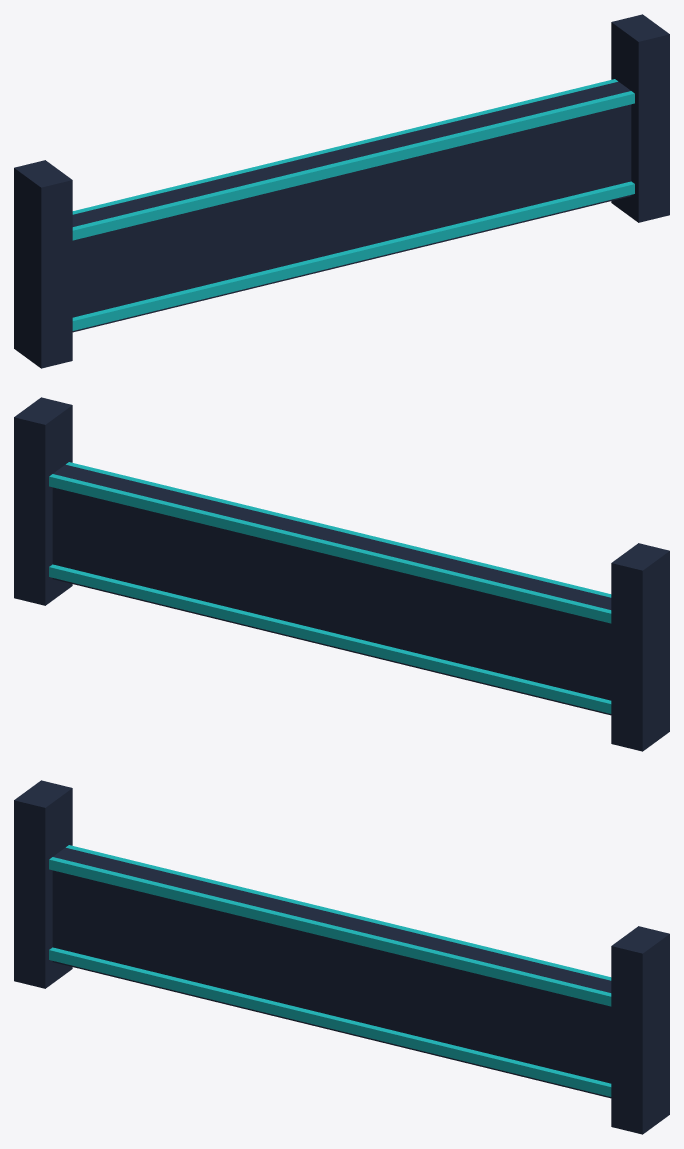
File: Neon_LightBarrier_Simple.glb
3 views of the same model, one above another, from view 1: azimuth 30°, elevation 25°; view 2: azimuth 150°, elevation 25°; view 3: azimuth 330°, elevation 25° (orthographic).
Visible parts, largest first — view 1: Neon_LightBarrier_Simple; view 2: Neon_LightBarrier_Simple; view 3: Neon_LightBarrier_Simple.
Part boxes in pixels (left/top/right/bottom): Neon_LightBarrier_Simple: left=14, top=14, right=669, bottom=368; Neon_LightBarrier_Simple: left=14, top=397, right=669, bottom=751; Neon_LightBarrier_Simple: left=14, top=780, right=669, bottom=1134.
Bounding box in the file's own units: 4 × 1.1 × 0.3.
